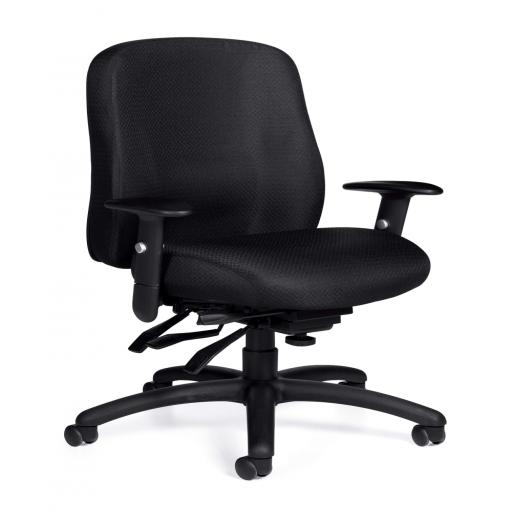chair: (64, 37, 446, 480)
